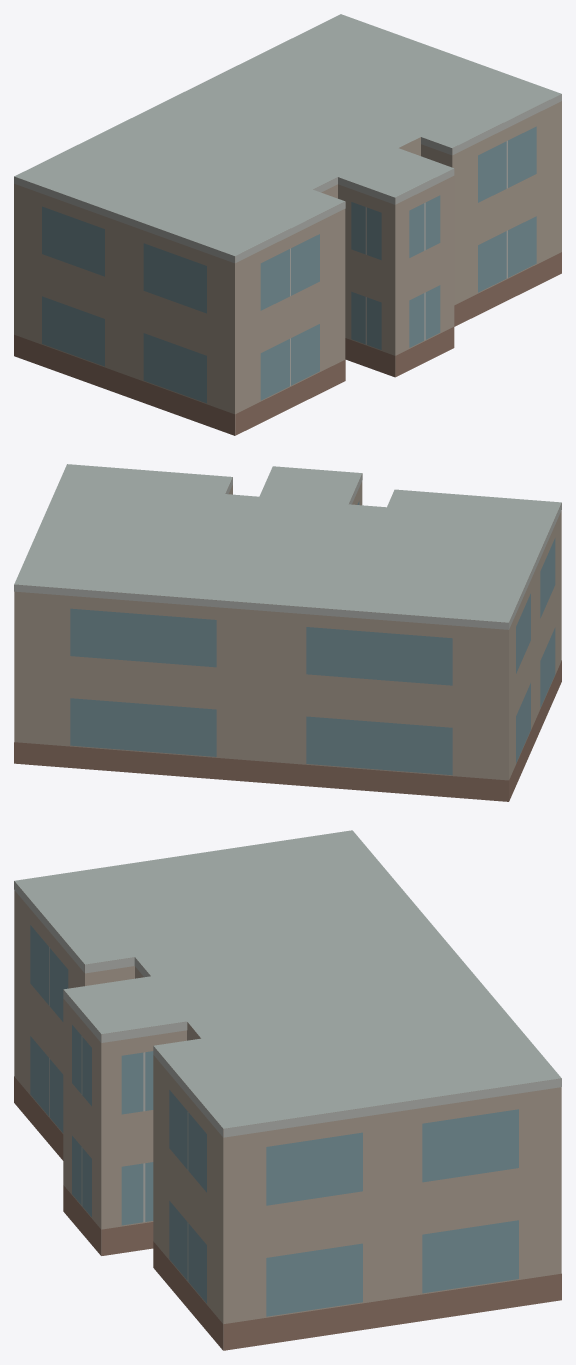
File: survey-upis-32702168.glb
3 renders of one model, top to bottom at view 1: azimuth 30°, elevation 25°; view 2: azimuth 150°, elevation 25°; view 3: azimuth 270°, elevation 25°, orthographic. The views are drawn at different scales.
Parts seen in each view (by area): view 1: survey-upis-32702168.tmp; view 2: survey-upis-32702168.tmp; view 3: survey-upis-32702168.tmp.
Part boxes in pixels (<box>): survey-upis-32702168.tmp: <box>14,14,561,435</box>; survey-upis-32702168.tmp: <box>14,464,561,801</box>; survey-upis-32702168.tmp: <box>14,830,561,1350</box>.
Bounding box in the file's own units: 17.61 × 6.1 × 13.65.
